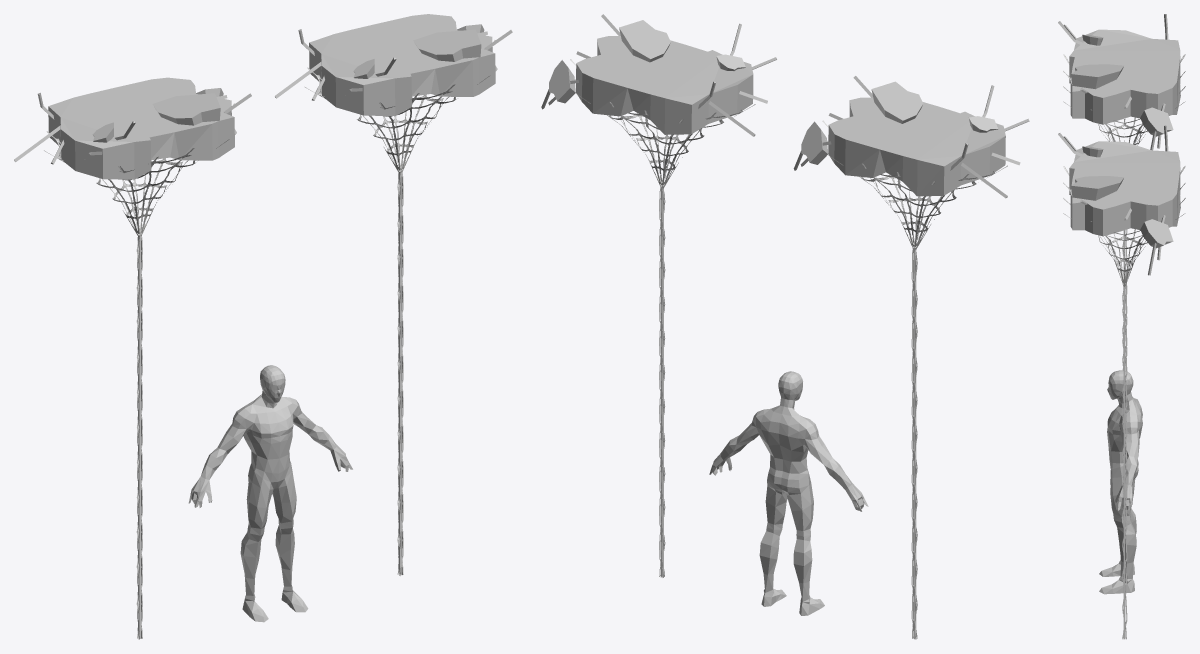
Rendered from M-FF_iOS_HERO_Miles_Morales_Spider-Man_Ultimate.obj.
3 renders of one model, left to right at view 1: azimuth 30°, elevation 25°; view 2: azimuth 150°, elevation 25°; view 3: azimuth 270°, elevation 25°, orthographic. The views are drawn at different scales.
Size of the model in its own units: 3.52 by 3.87 by 0.918.
